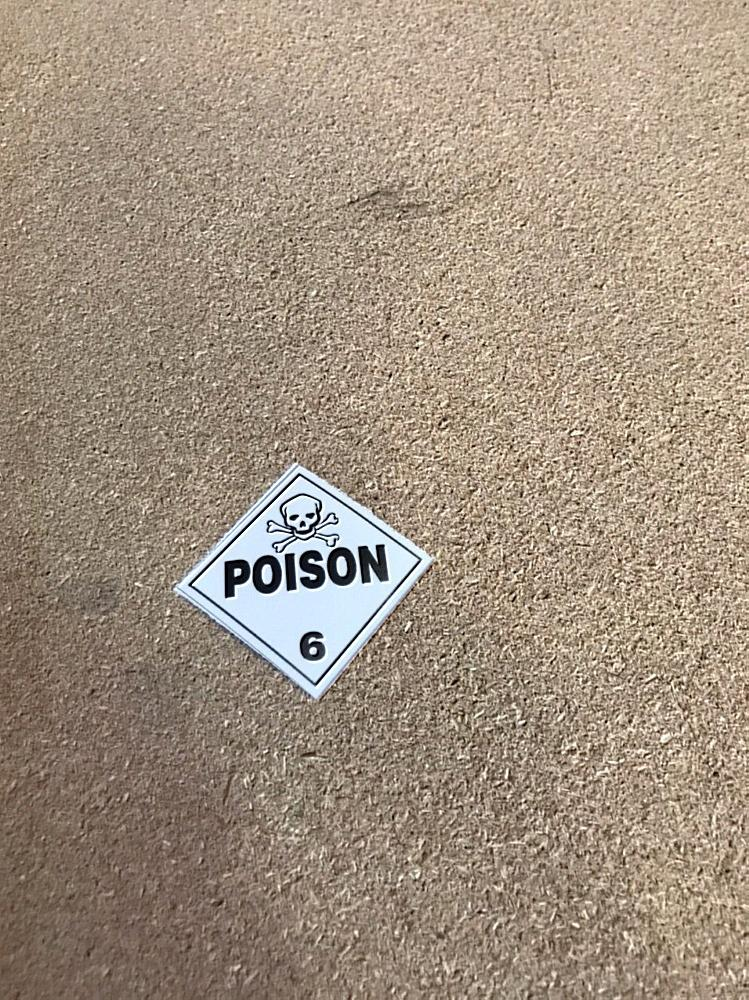poison: (184, 464, 433, 701)
